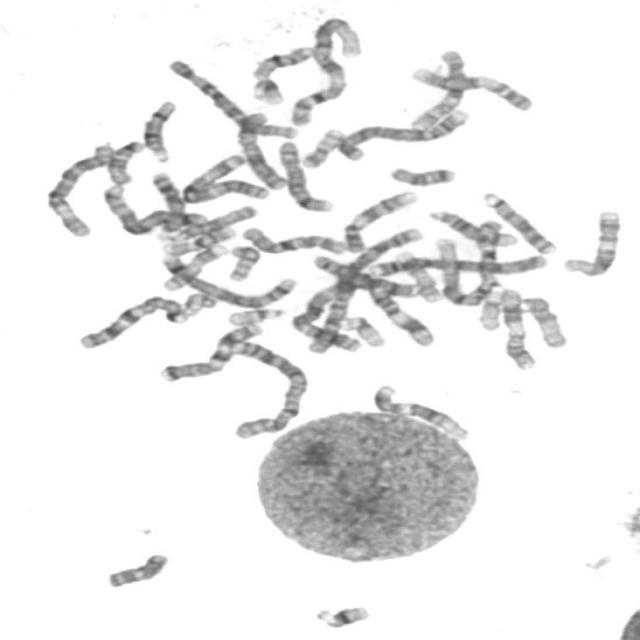A1: (285, 11, 369, 126), (433, 213, 509, 307)
A2: (294, 220, 425, 354), (222, 334, 312, 440)
A3: (285, 272, 366, 354), (175, 148, 273, 204)
B4: (332, 102, 474, 162), (361, 249, 550, 278)
B5: (155, 250, 299, 310), (97, 179, 212, 236)
C10: (404, 44, 471, 131), (236, 221, 351, 256)
C11: (361, 274, 440, 348), (493, 282, 541, 372)
C12: (367, 378, 474, 442), (558, 205, 626, 277)
C6: (162, 53, 302, 140), (40, 138, 119, 238)
C7: (71, 289, 193, 351), (154, 318, 268, 383)
C8: (307, 249, 423, 300), (272, 135, 338, 213)
C9: (406, 61, 538, 112), (338, 185, 422, 254)
D13: (475, 187, 562, 255), (146, 167, 192, 235)
D14: (424, 204, 521, 248), (137, 94, 182, 164)
D15: (156, 200, 260, 242), (516, 291, 574, 350)
E16: (246, 40, 319, 80), (156, 222, 238, 256)
E17: (158, 238, 232, 292), (390, 247, 445, 304)
E18: (103, 135, 148, 185), (383, 160, 460, 187)
F19: (336, 311, 389, 348), (473, 296, 521, 334)
F20: (296, 122, 348, 169), (222, 239, 264, 283)
G21: (310, 598, 376, 630), (246, 72, 288, 106)
G22: (223, 302, 289, 326), (178, 287, 220, 317)
X: (307, 249, 423, 300), (230, 105, 292, 191)
Y: (102, 547, 175, 589)
